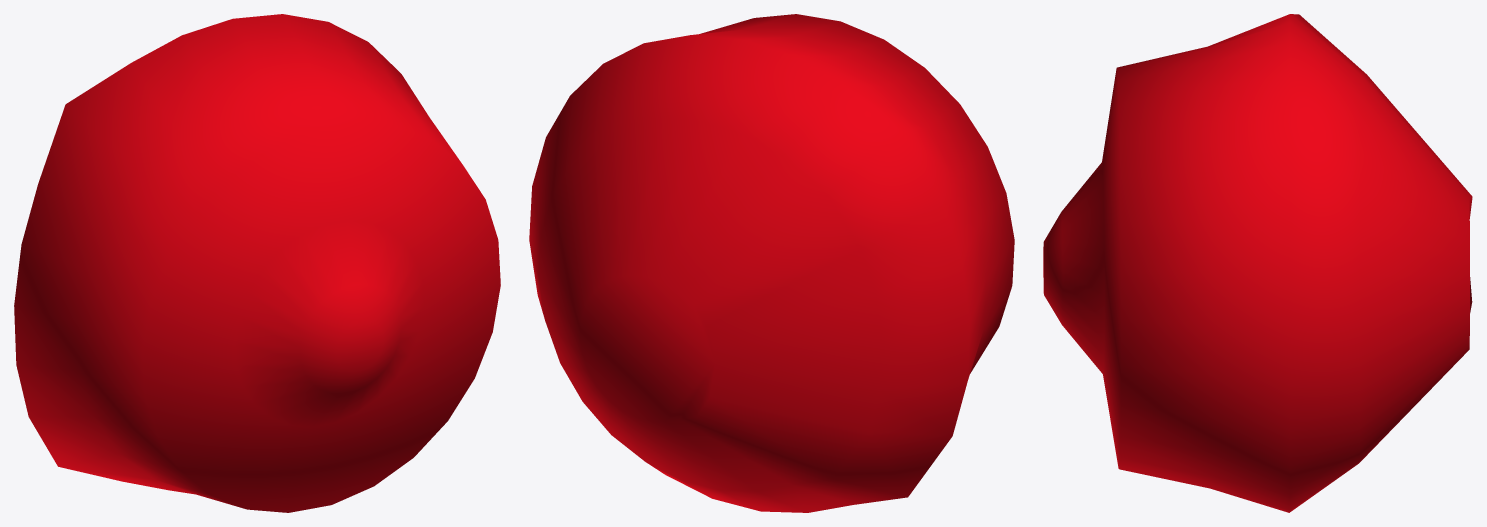
Rendered from Hip034.fbx.
3 views of the same model, side by side, from view 1: azimuth 30°, elevation 25°; view 2: azimuth 150°, elevation 25°; view 3: azimuth 270°, elevation 25° (orthographic). The views are drawn at different scales.
Visible parts, largest first — view 1: Cube.005; view 2: Cube.005; view 3: Cube.005.
Part boxes in pixels (<box>): Cube.005: <box>14,14,500,512</box>; Cube.005: <box>529,14,1014,512</box>; Cube.005: <box>1043,14,1472,512</box>.
Bounding box in the file's own units: 7.7 × 7.9 × 6.86.
